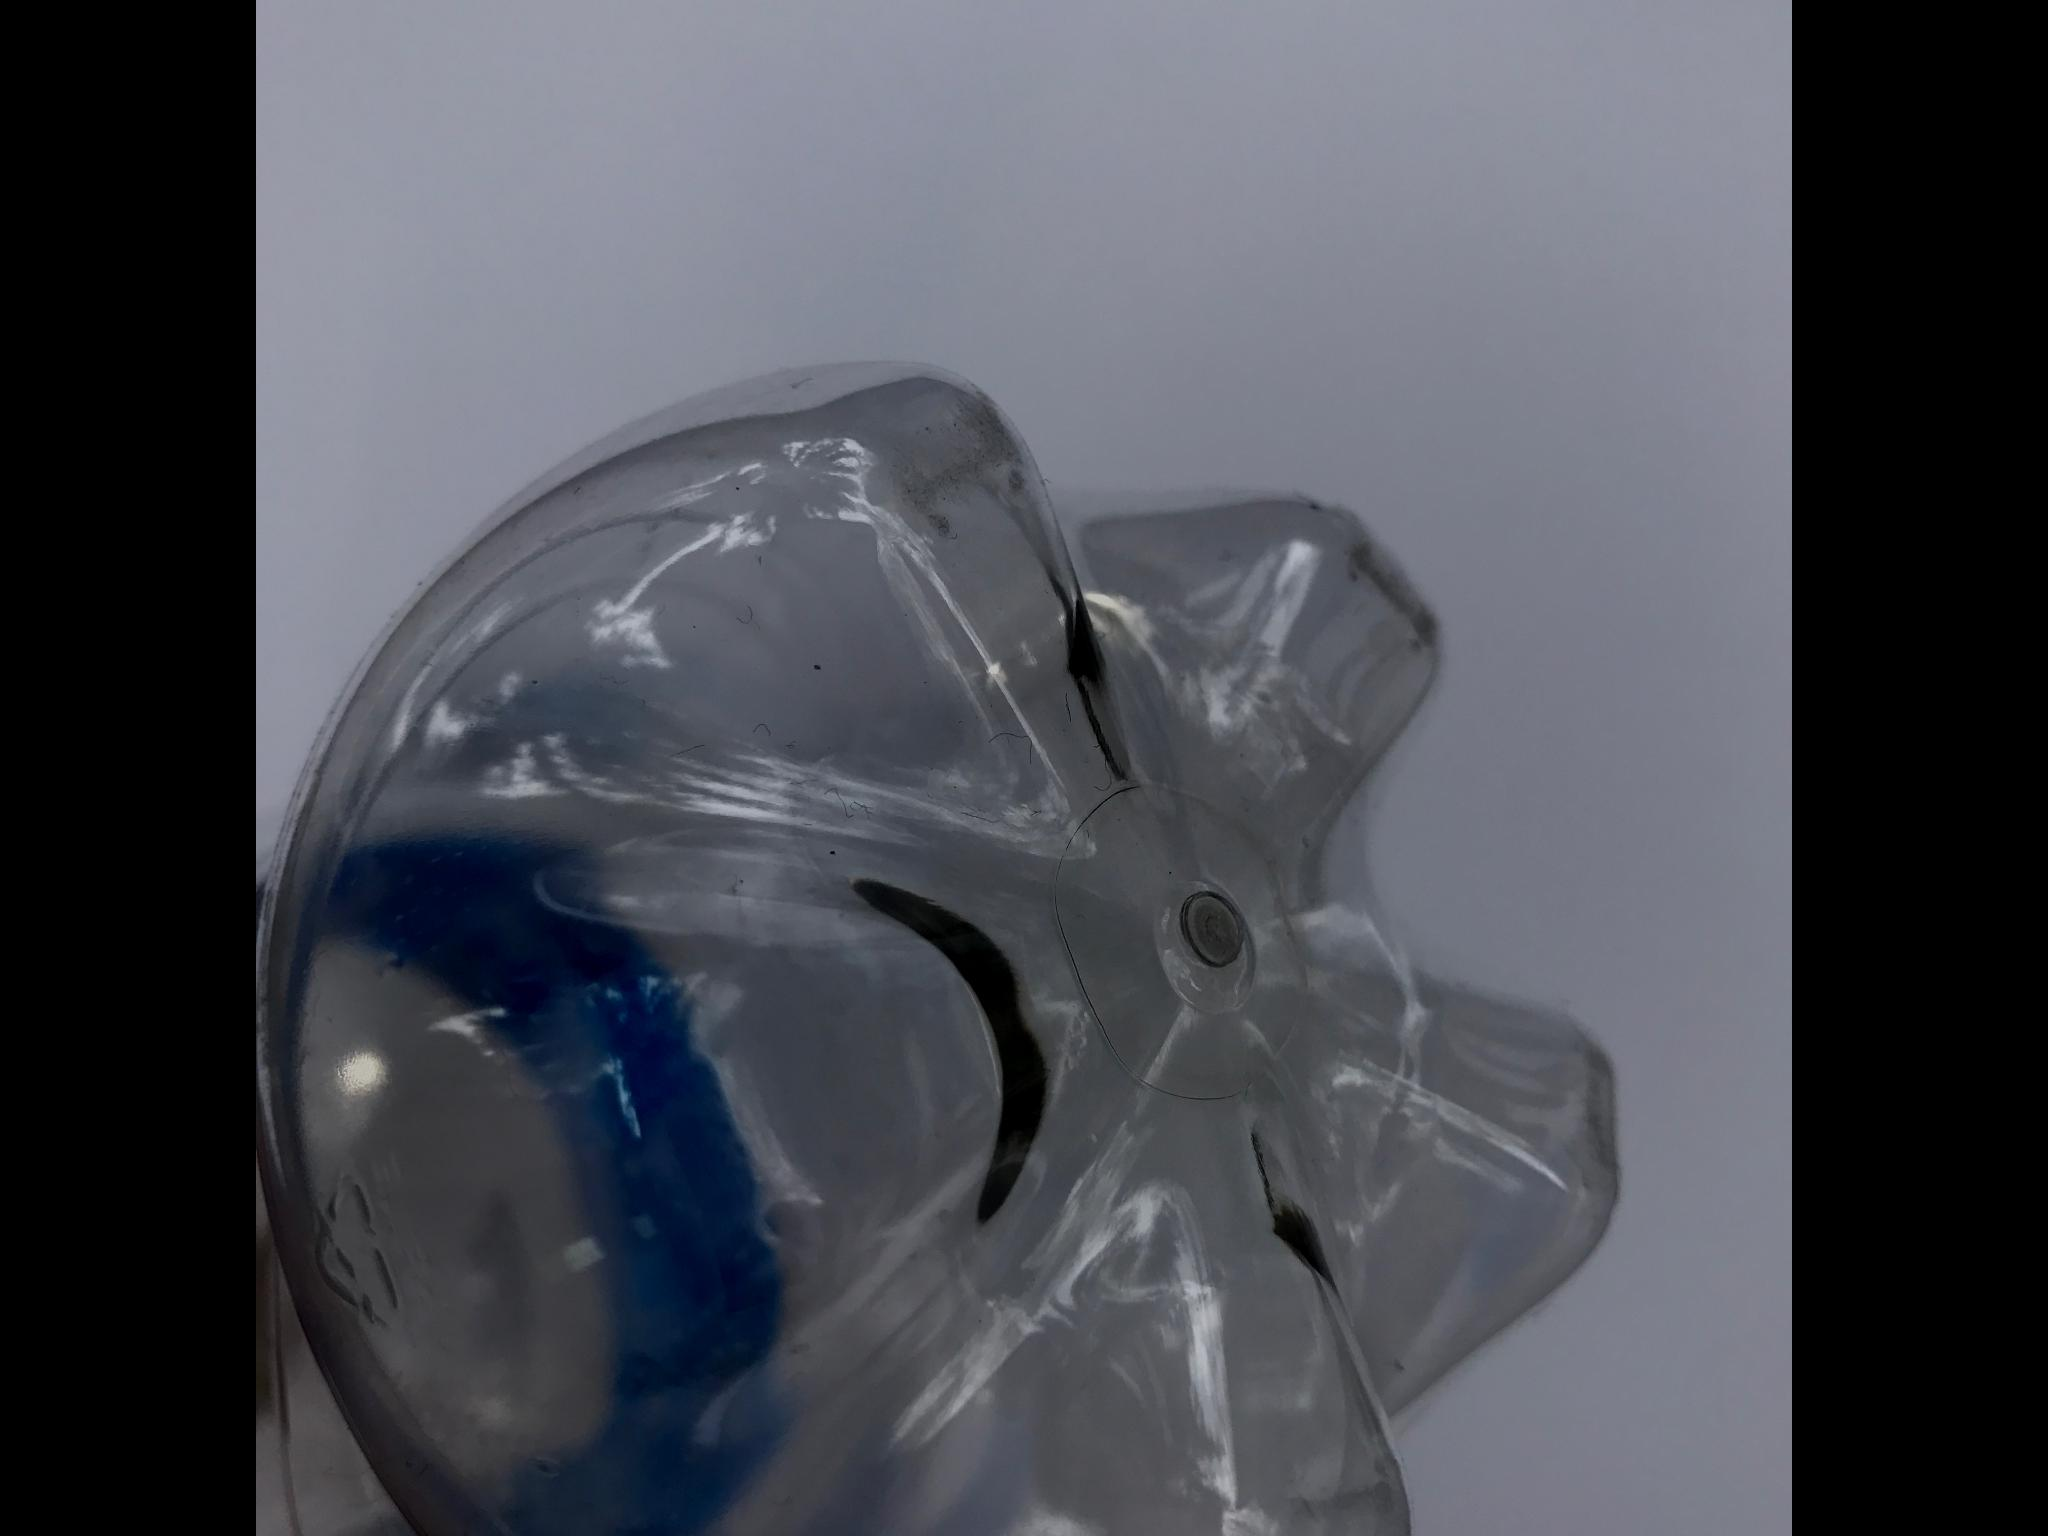Plastic: (256, 353, 1625, 1534)
